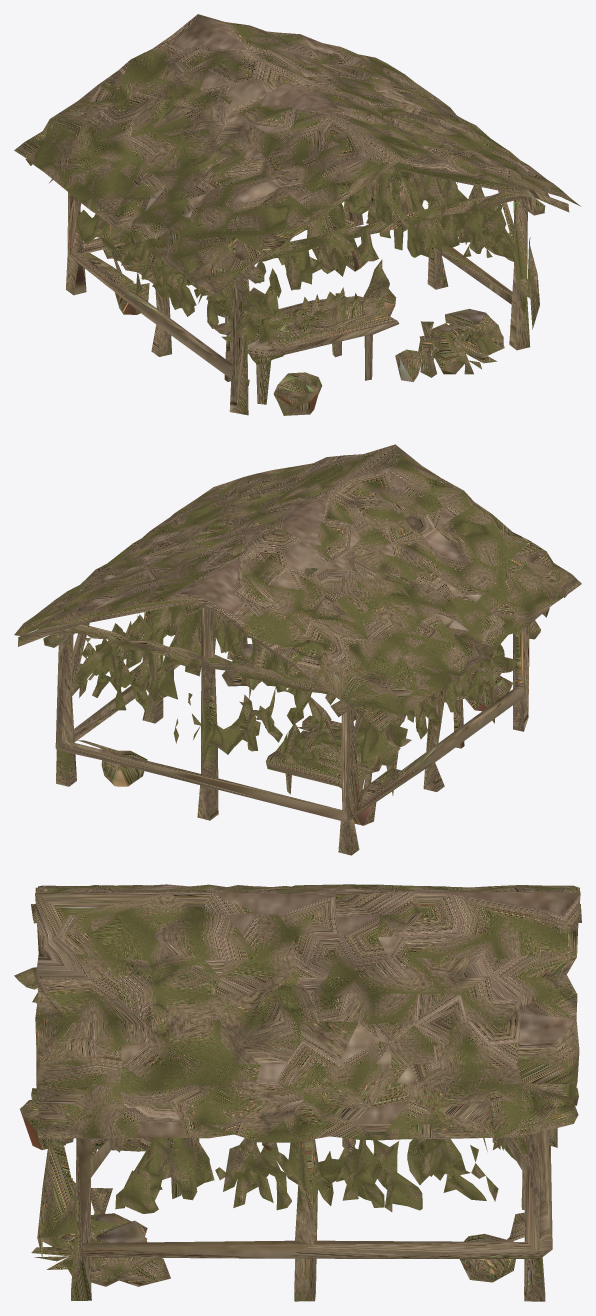
File: bq_incense.lod.glb
3 views of the same model, one above another, from view 1: azimuth 30°, elevation 25°; view 2: azimuth 150°, elevation 25°; view 3: azimuth 270°, elevation 25° (orthographic). The views are drawn at different scales.
Parts seen in each view (by area): view 1: mesh_node; view 2: mesh_node; view 3: mesh_node.
Boxes of the visible parts, x1,y1,x2,y2 form: mesh_node: (14, 14, 581, 415); mesh_node: (14, 444, 581, 855); mesh_node: (14, 884, 581, 1301).
Size of the model in its own units: 1.9 by 1.12 by 1.83.
Materials: 1 (1 with a texture image).
